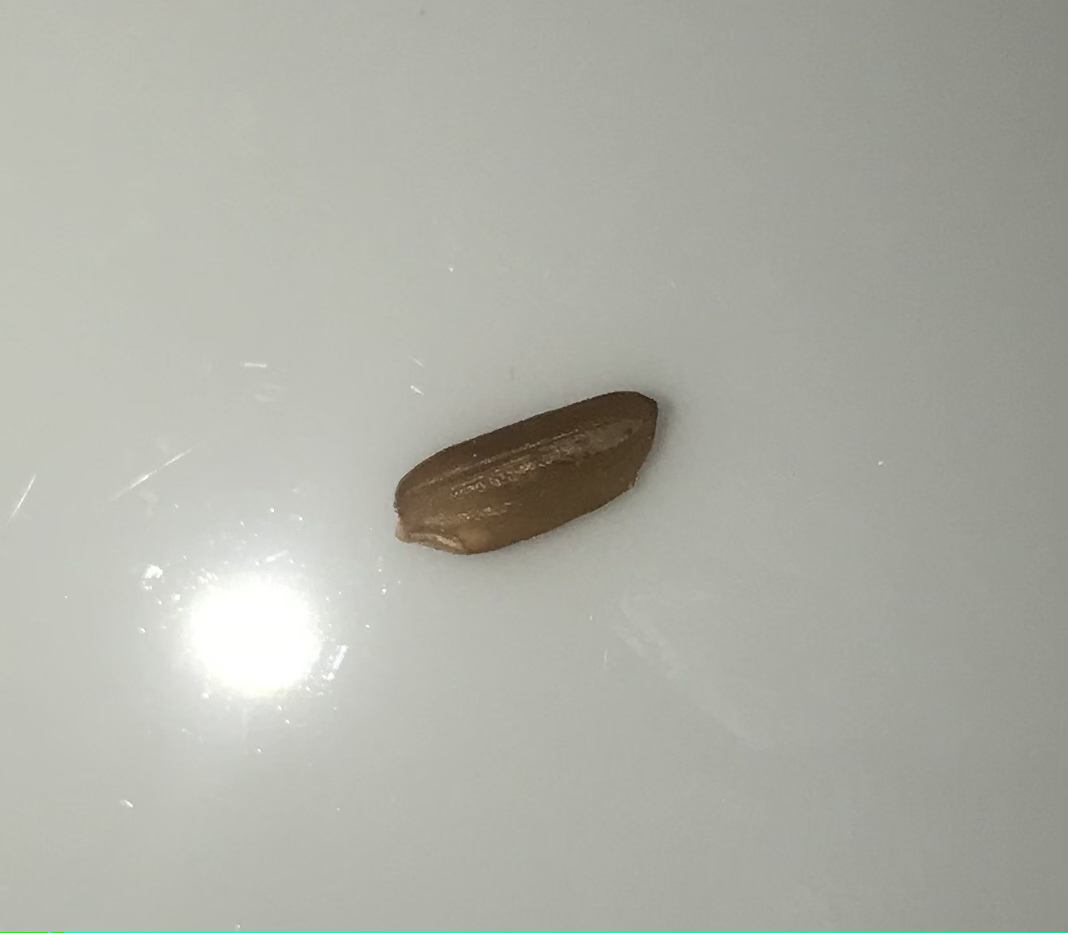Gao Lut Dien Bien: (392, 390, 665, 556)
